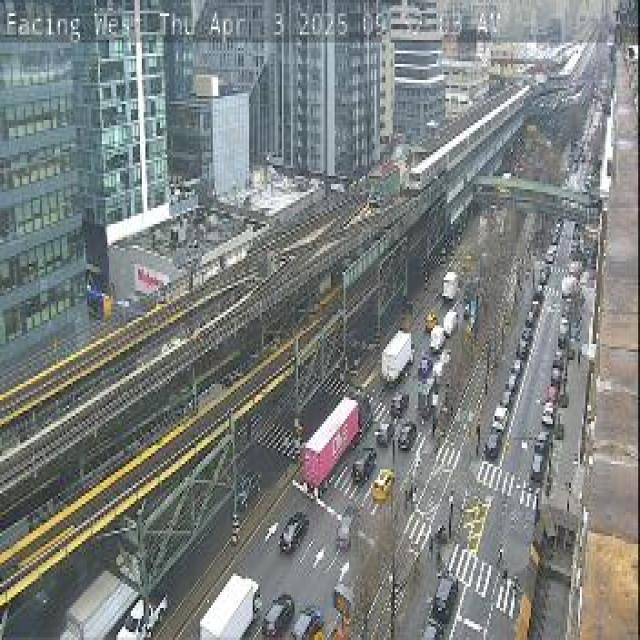parkedCars: (533, 348, 566, 474), (507, 289, 541, 381), (484, 371, 518, 451)
